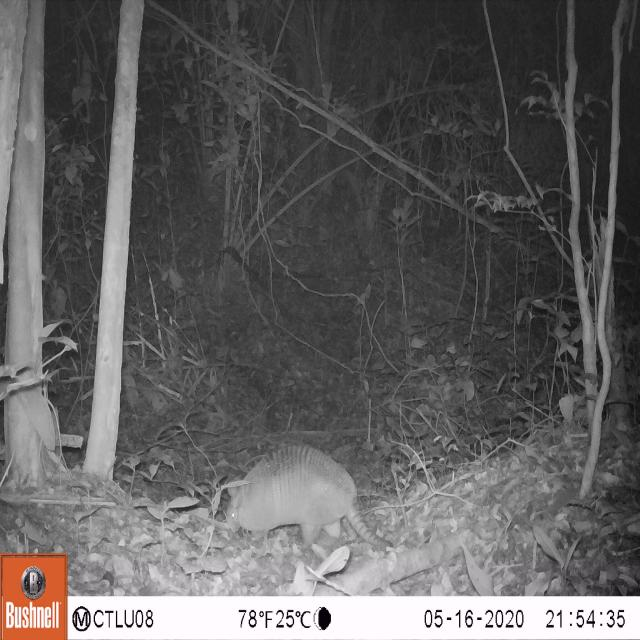Armadillo: (206, 435, 382, 562)
